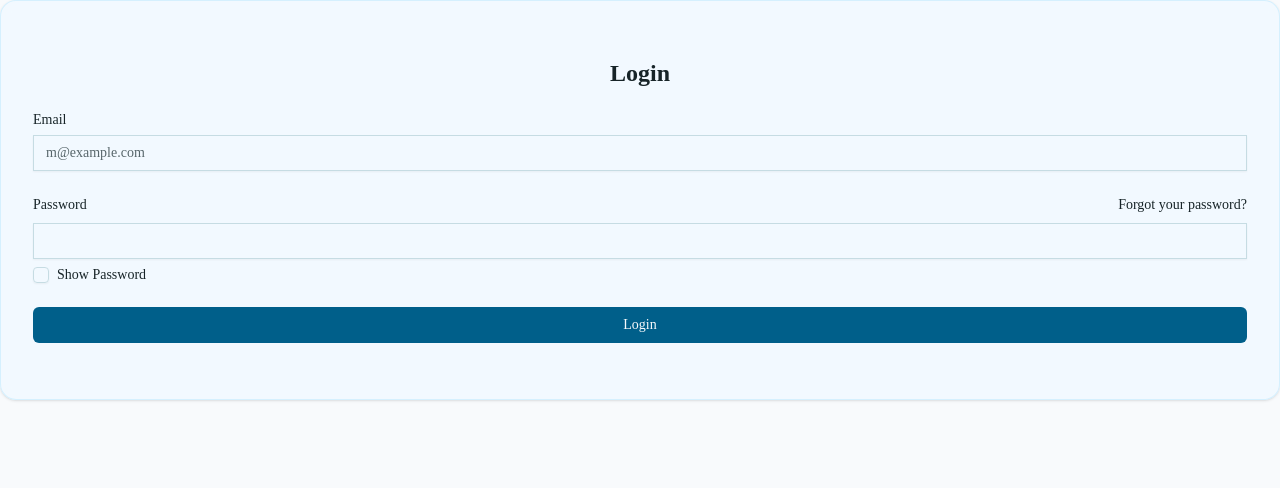
Test: LoginForm › should display error message when login fails
Type "test@example.com" into the field labelled "Email" at (640, 153), box [33,135,1247,171]
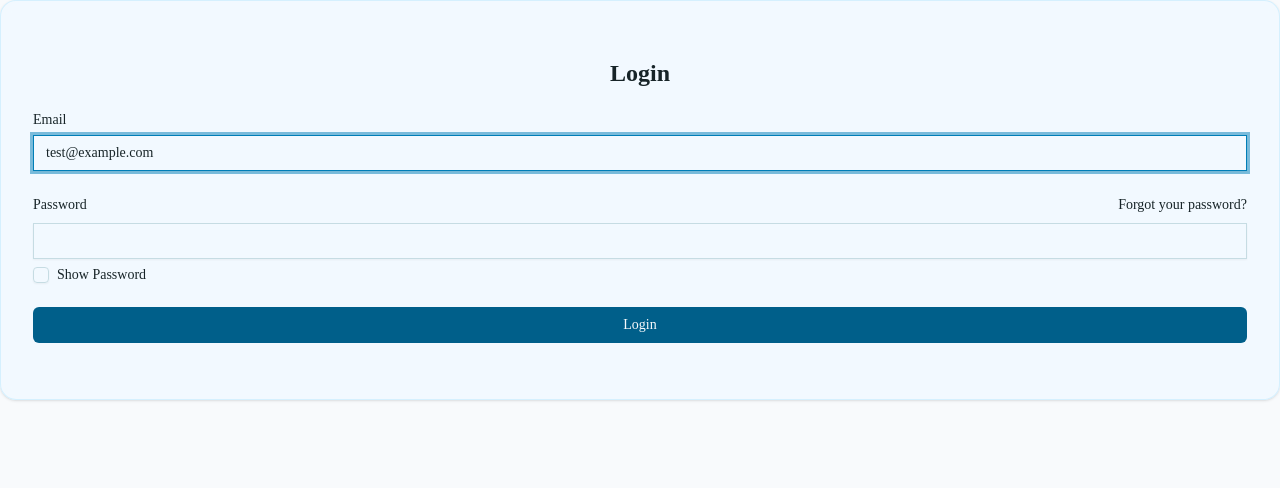
Type "wrongpassword" into the password field labelled "Password" at (640, 241), box [33,223,1247,259]
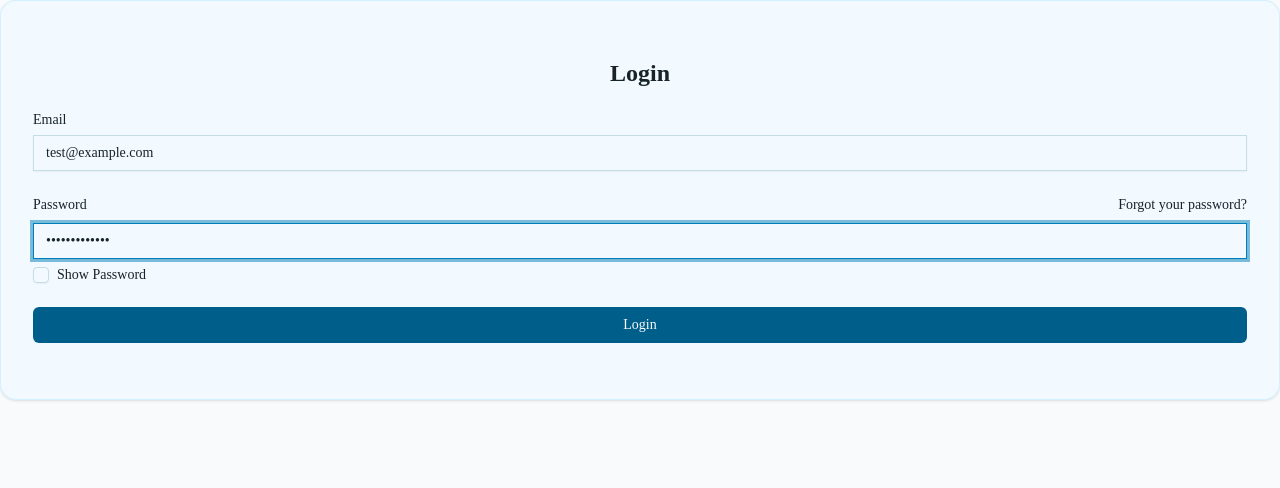
Submit the form with test id "login-form"
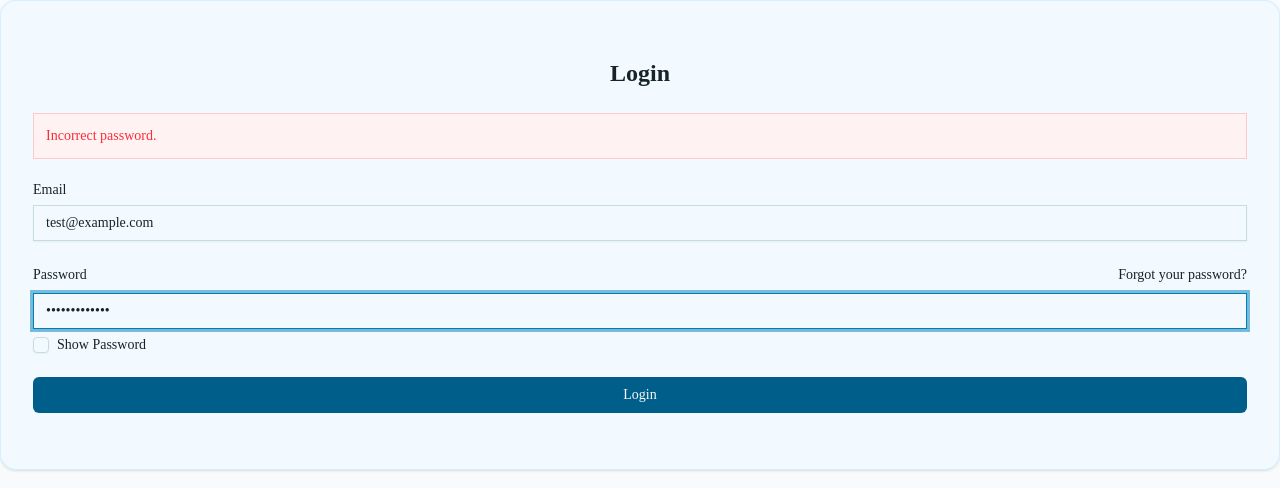
Check: the text "Incorrect password." is shown, box [33,113,1247,159]
